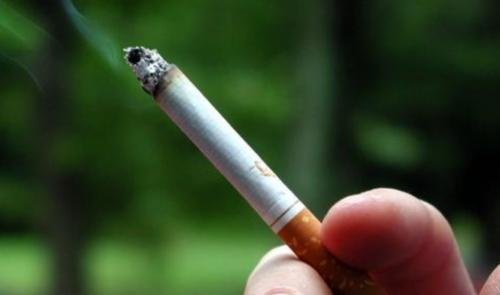smoke: (124, 45, 389, 295)
